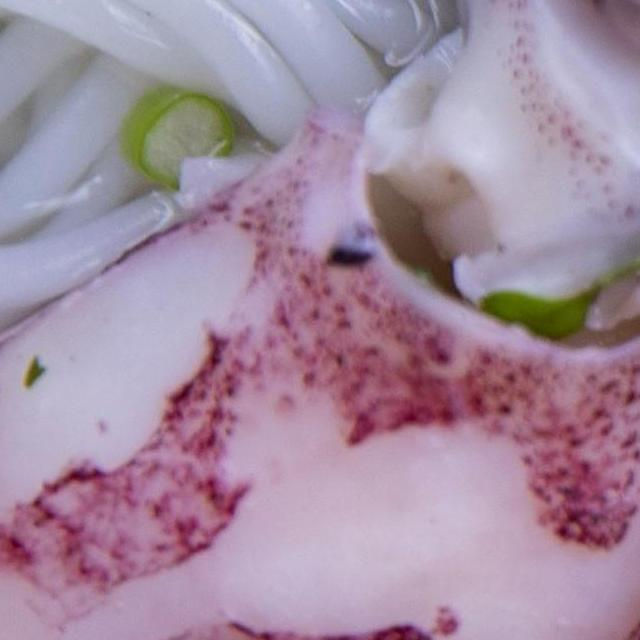bun: (0, 0, 496, 640)
bun hai san: (0, 0, 640, 640)
muc: (0, 0, 640, 640)
